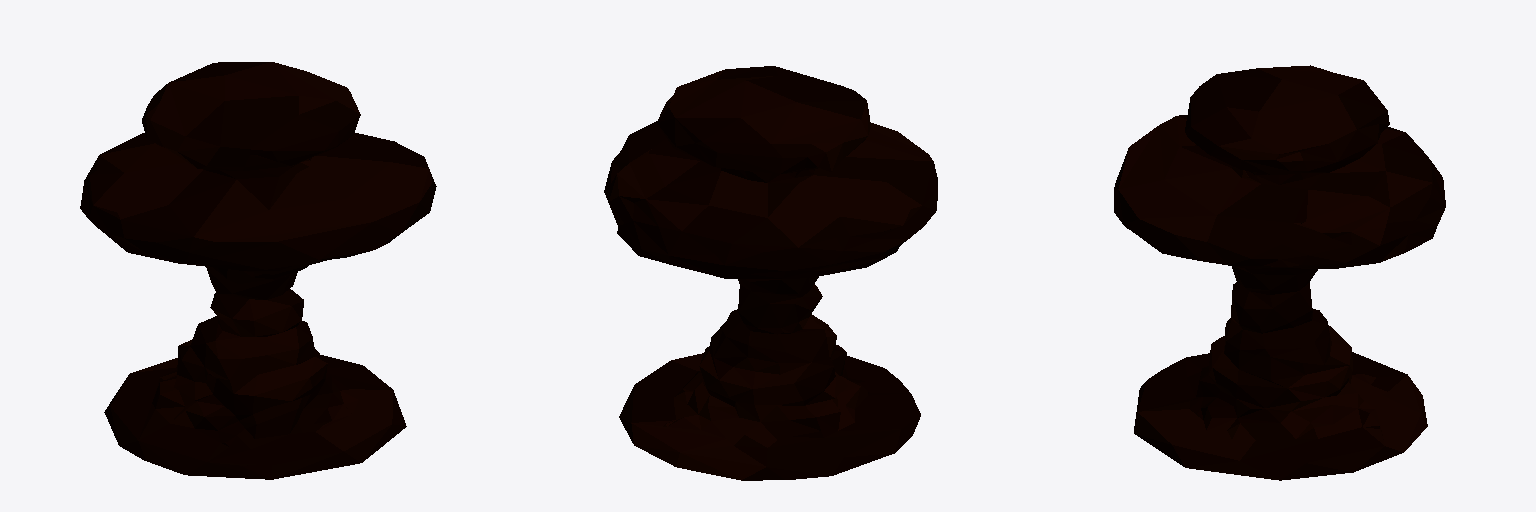
The model's file is pedestal.obj.
3 renders of one model, left to right at view 1: azimuth 30°, elevation 25°; view 2: azimuth 150°, elevation 25°; view 3: azimuth 270°, elevation 25°, orthographic.
Parts seen in each view (by area): view 1: pedestal; view 2: pedestal; view 3: pedestal.
Boxes of the visible parts, x1,y1,x2,y2 form: pedestal: [80, 62, 436, 479]; pedestal: [604, 66, 937, 480]; pedestal: [1114, 65, 1445, 480].
Bounding box in the file's own units: 3.76 × 3.78 × 3.52.